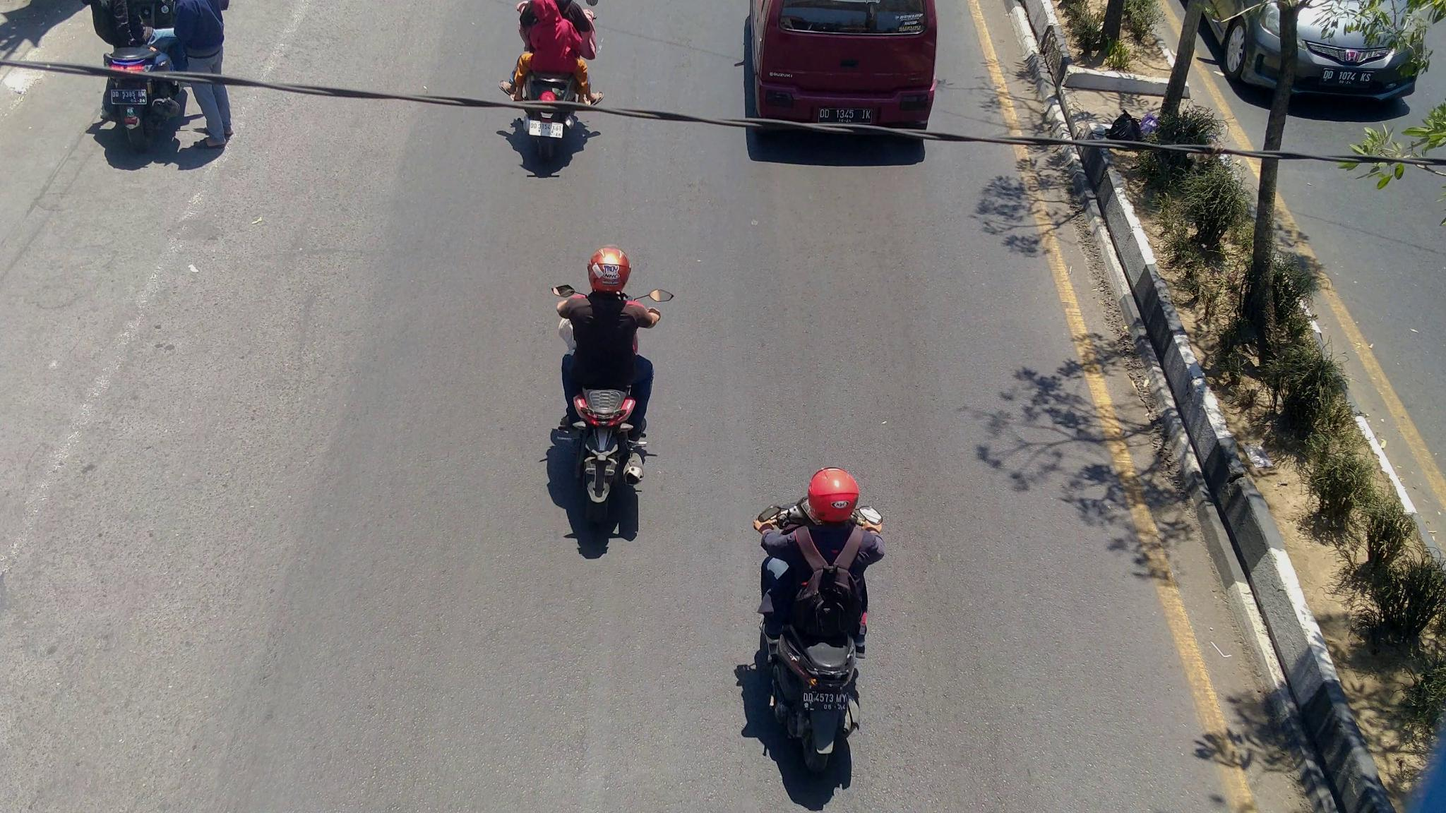Helmet: (801, 460, 865, 530), (580, 240, 640, 301)
bike: (761, 484, 887, 780), (546, 274, 676, 535), (513, 26, 603, 174)
number-plate: (803, 689, 851, 715)
rider: (757, 461, 887, 634), (554, 243, 662, 440), (506, 0, 603, 108)
